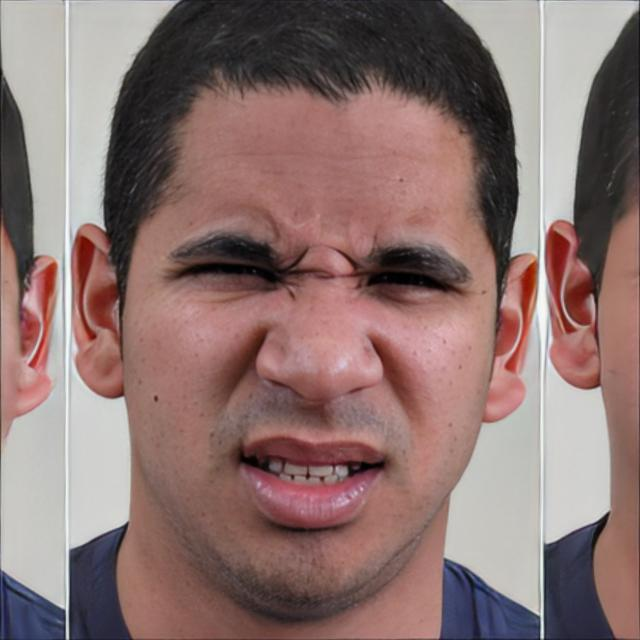disgust: (121, 86, 498, 620)
